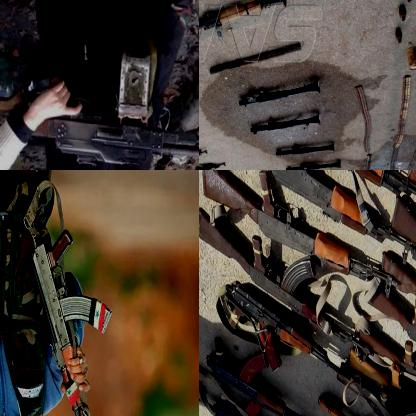rifle: (199, 170, 398, 298), (202, 170, 394, 298), (0, 47, 198, 169), (199, 215, 365, 348), (31, 231, 117, 415), (271, 170, 415, 263), (227, 284, 350, 382), (206, 338, 324, 415), (368, 285, 415, 404), (356, 327, 415, 415), (349, 346, 415, 415), (379, 254, 415, 374), (199, 0, 288, 42), (339, 367, 415, 415), (234, 74, 322, 112), (246, 105, 320, 137), (271, 134, 335, 159), (284, 154, 344, 169), (199, 157, 227, 169), (199, 141, 208, 169)
